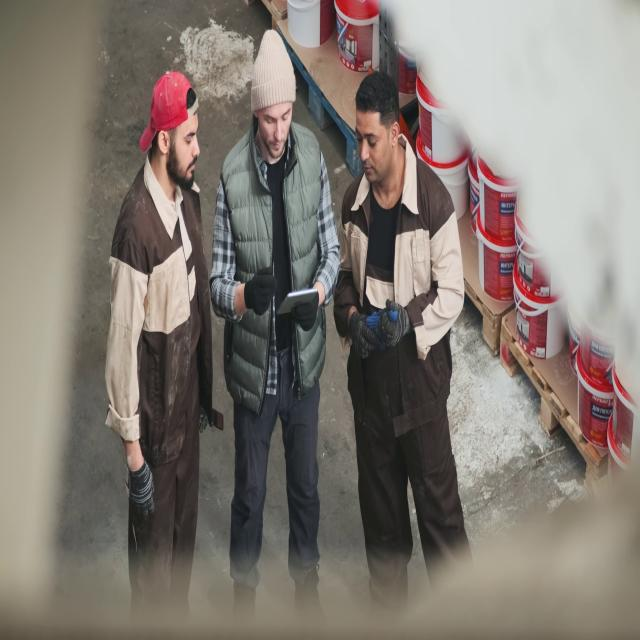gloved: (376, 298, 411, 348), (244, 266, 278, 316), (127, 460, 155, 519), (348, 310, 379, 360), (291, 290, 319, 332)
